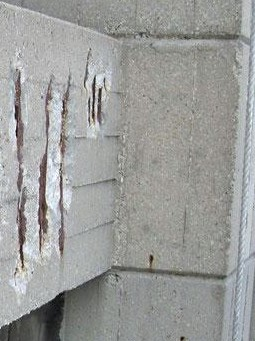Exposed reinforcement: (56, 70, 73, 256), (13, 69, 26, 268), (37, 77, 51, 253), (96, 86, 104, 124), (91, 74, 96, 121), (86, 96, 91, 126)
